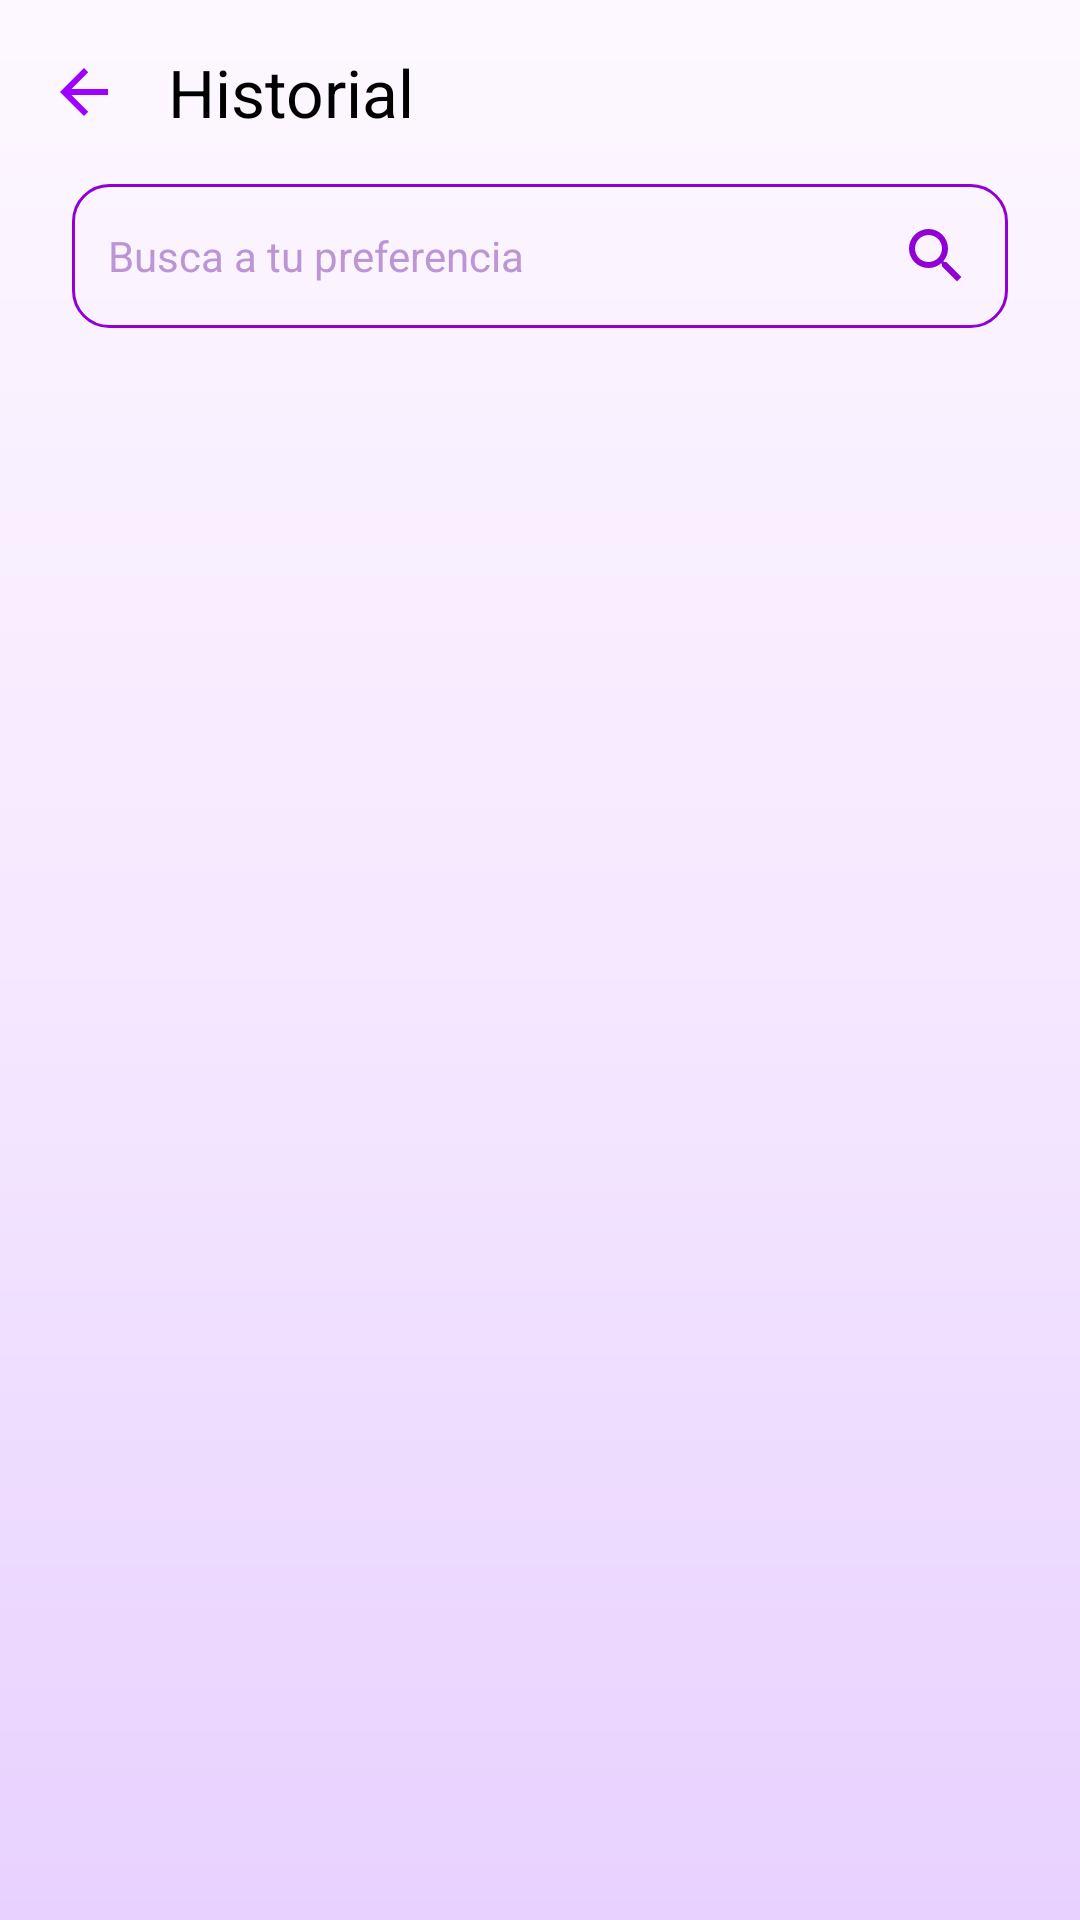

Where to tap for icons on this 1080 x 1920 app screen, as (x=x, y=y):
Search: (x=935, y=255)
Volver: (x=84, y=92)
